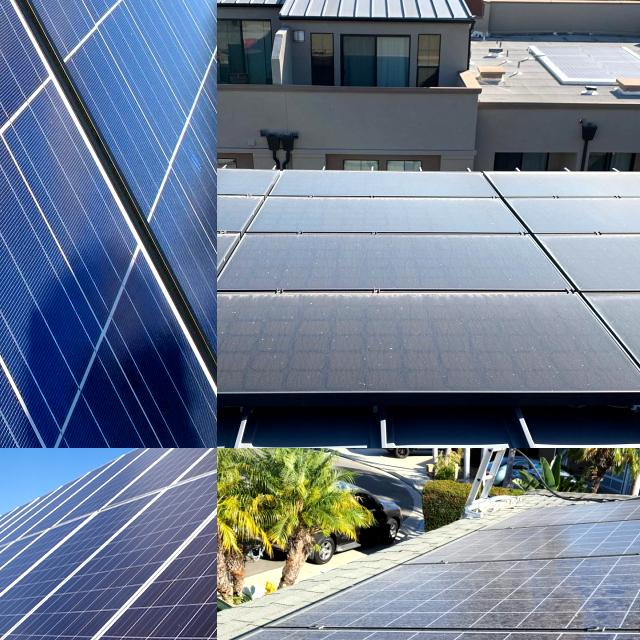crack: (0, 0, 129, 352), (0, 0, 111, 244), (139, 518, 217, 640), (17, 556, 125, 640)
dust: (217, 305, 632, 385), (257, 236, 542, 282), (382, 576, 523, 626), (551, 548, 640, 625), (522, 499, 640, 541), (217, 298, 256, 387), (217, 235, 272, 274)
